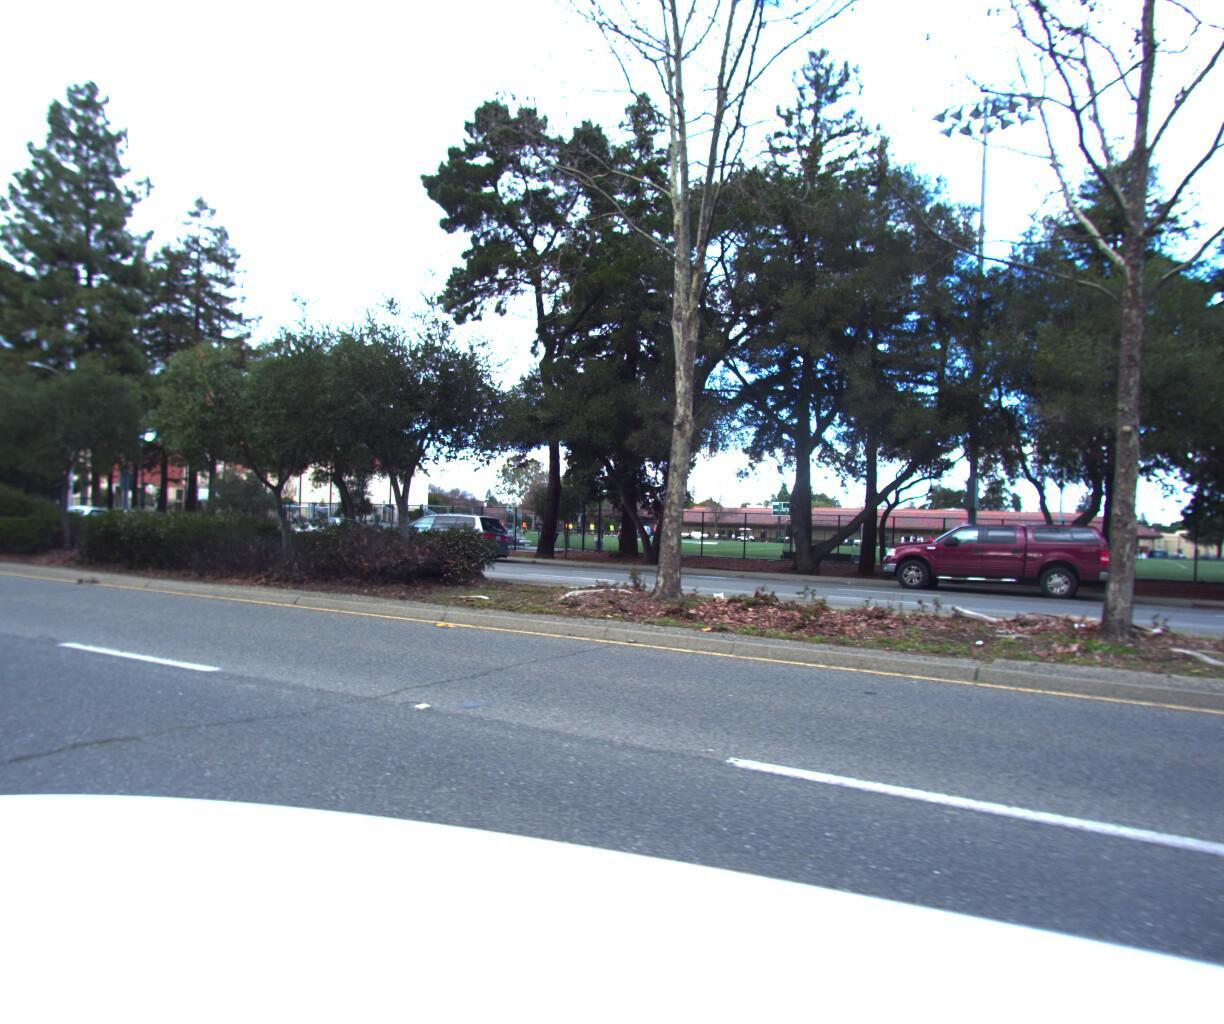car: (875, 513, 1147, 601), (377, 505, 517, 563), (269, 507, 387, 552), (35, 497, 120, 532)
